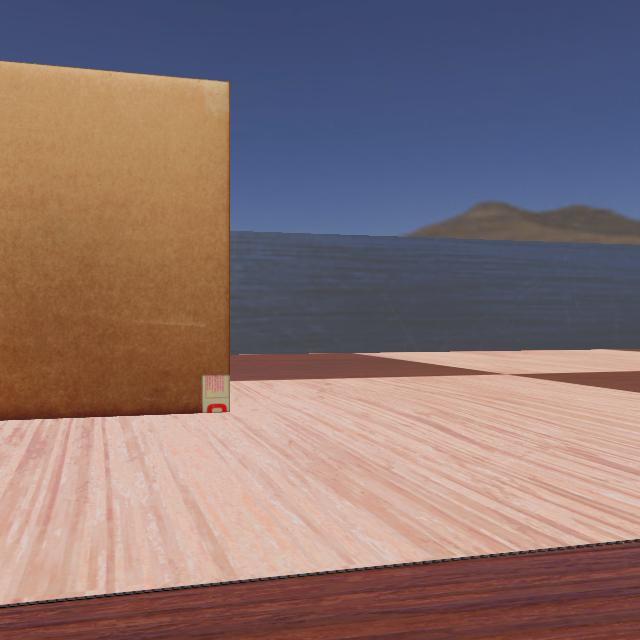cardboard-box: (1, 23, 258, 434)
